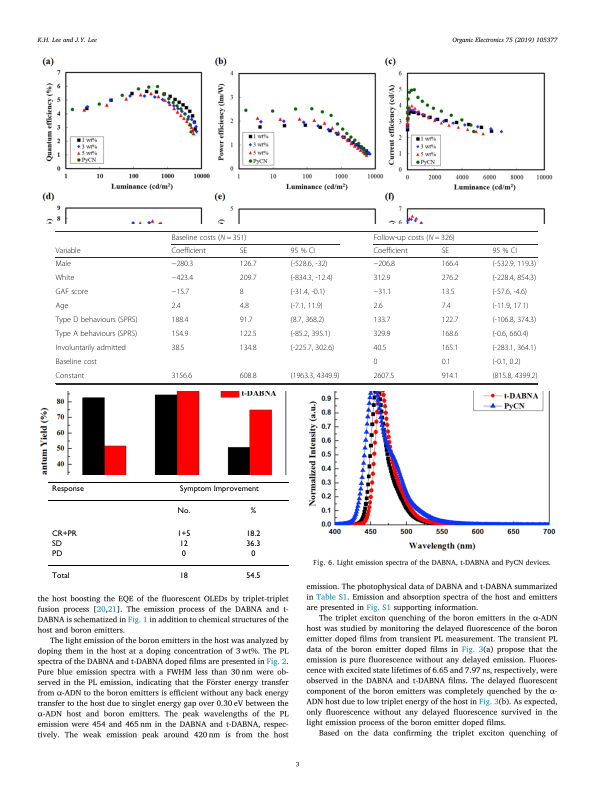borderless: (54, 229, 537, 383), (46, 480, 290, 589)
cell: (54, 315, 138, 325), (54, 329, 138, 339), (372, 233, 456, 242), (54, 343, 127, 353), (178, 485, 259, 494), (171, 233, 247, 242), (290, 371, 340, 381), (491, 371, 538, 381), (491, 259, 537, 269), (491, 273, 537, 283), (491, 315, 537, 325), (491, 343, 537, 353), (290, 343, 335, 353), (54, 357, 98, 367), (290, 273, 333, 283), (290, 329, 331, 339), (290, 259, 328, 269), (491, 301, 529, 311), (491, 329, 529, 339), (372, 246, 409, 256), (491, 287, 528, 297), (171, 246, 207, 256), (290, 287, 326, 297), (54, 287, 89, 297), (290, 315, 325, 325), (290, 301, 324, 311), (491, 357, 522, 367), (54, 371, 85, 381), (50, 485, 84, 494), (50, 529, 77, 539), (54, 246, 81, 256), (491, 246, 518, 256), (290, 246, 316, 256), (372, 259, 396, 269), (171, 259, 194, 269), (171, 273, 194, 283), (372, 371, 395, 381), (171, 371, 193, 381), (54, 273, 75, 283), (372, 287, 392, 297), (372, 273, 391, 283), (171, 287, 190, 297), (372, 315, 391, 325), (372, 329, 391, 339), (50, 572, 70, 581), (54, 259, 72, 269), (239, 259, 257, 269), (441, 259, 459, 269), (239, 273, 257, 283), (441, 273, 459, 283), (171, 315, 189, 325), (441, 315, 459, 325), (171, 329, 189, 339), (239, 329, 257, 339), (441, 329, 459, 339), (239, 343, 257, 353), (441, 343, 459, 353), (239, 371, 257, 381), (441, 371, 459, 381), (245, 529, 261, 539), (245, 539, 261, 549), (176, 529, 191, 539), (54, 301, 69, 311), (239, 315, 254, 325), (372, 343, 387, 353), (245, 572, 261, 581), (441, 287, 455, 297), (171, 343, 185, 353), (176, 507, 191, 516), (50, 539, 62, 549), (50, 550, 63, 559), (171, 301, 182, 311), (239, 301, 250, 311), (372, 301, 383, 311), (441, 301, 452, 311), (441, 357, 452, 367), (178, 539, 188, 549), (178, 572, 188, 581), (239, 246, 248, 256), (441, 246, 450, 256), (249, 507, 257, 516), (239, 287, 245, 297), (372, 357, 378, 367), (180, 550, 186, 559), (250, 550, 256, 559)
